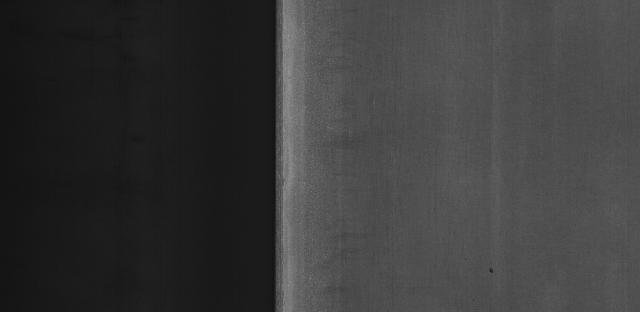inclusion: (478, 258, 503, 281)
